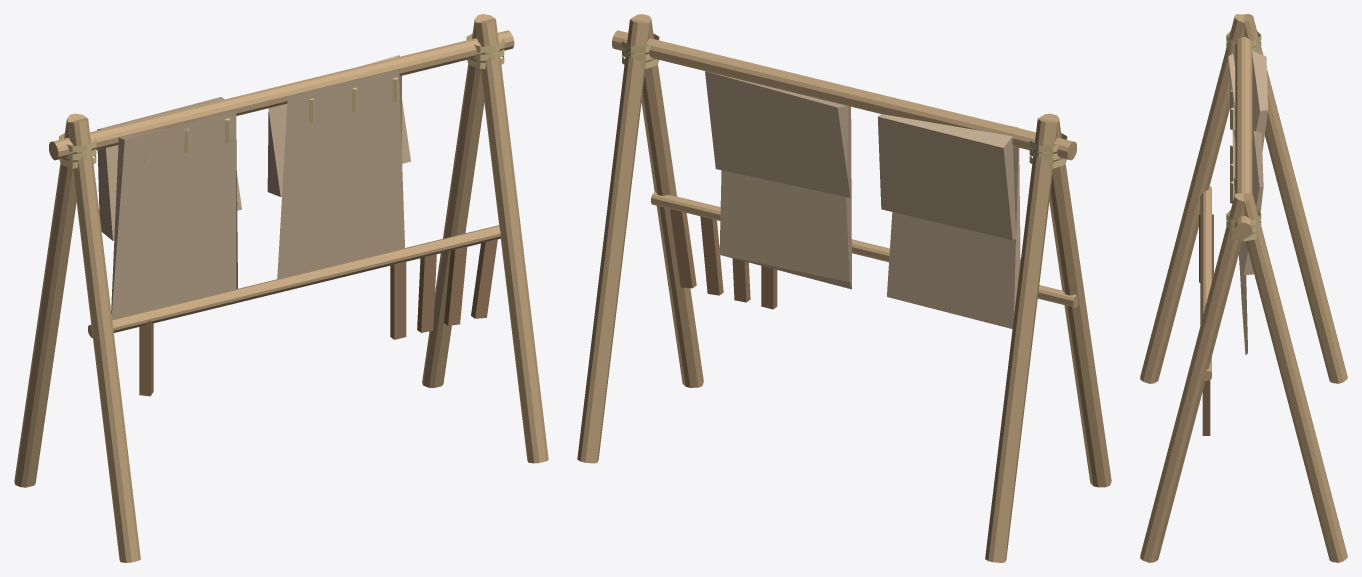
File: drying_rack.glb
The picture shows the model from 3 angles, left to right: view 1: azimuth 30°, elevation 25°; view 2: azimuth 150°, elevation 25°; view 3: azimuth 270°, elevation 25°; orthographic projection. The views are drawn at different scales.
Visible parts, largest first — view 1: drying_rack; view 2: drying_rack; view 3: drying_rack.
Boxes of the visible parts, x1=… form: drying_rack: x1=14, y1=14, x2=548, y2=562; drying_rack: x1=577, y1=14, x2=1111, y2=562; drying_rack: x1=1140, y1=14, x2=1347, y2=562.
Bounding box in the file's own units: 1.9 × 1.61 × 0.8323.
